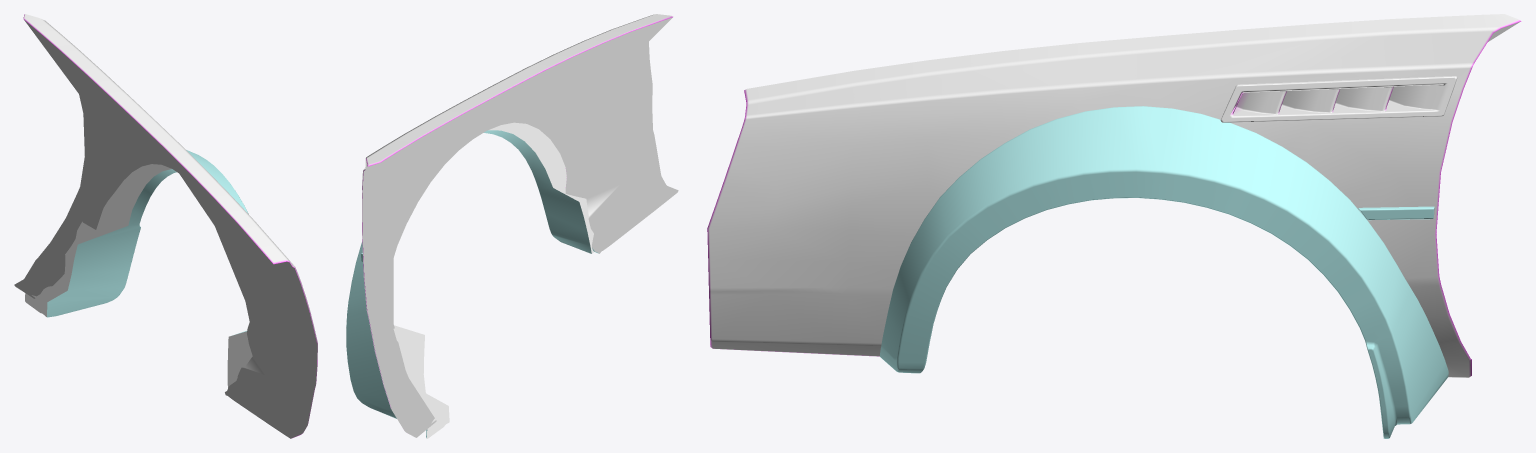
File: Car_Buick_GrandNational_1987_FenderFL_SetD.fbx
3 renders of one model, left to right at view 1: azimuth 30°, elevation 25°; view 2: azimuth 150°, elevation 25°; view 3: azimuth 270°, elevation 25°, orthographic. The views are drawn at different scales.
Visible parts, largest first — view 1: FenderFL 6; view 2: FenderFL 6; view 3: FenderFL 6.
Boxes of the visible parts, box(x1,y1,x2,y2) form: FenderFL 6: box(14, 14, 317, 438); FenderFL 6: box(346, 14, 678, 438); FenderFL 6: box(707, 14, 1521, 438).
Size of the model in its own units: 0.2753 by 0.7588 by 1.42.
